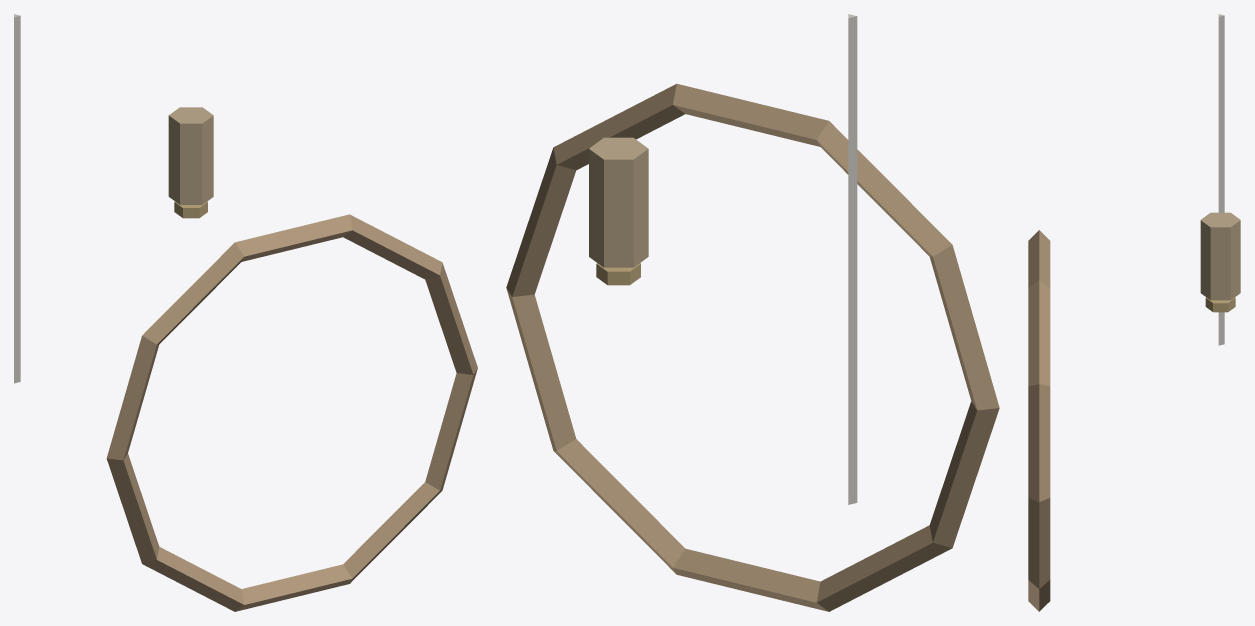
Rendered from quickbow.glb.
3 renders of one model, left to right at view 1: azimuth 30°, elevation 25°; view 2: azimuth 150°, elevation 25°; view 3: azimuth 270°, elevation 25°, orthographic. The views are drawn at different scales.
Visible parts, largest first — view 1: quickbow; view 2: quickbow; view 3: quickbow.
Boxes of the visible parts, x1,y1,x2,y2 form: quickbow: (14,14,477,611); quickbow: (506,14,999,611); quickbow: (1028,14,1240,611).
Size of the model in its own units: 0.764 by 1.08 by 0.422.
